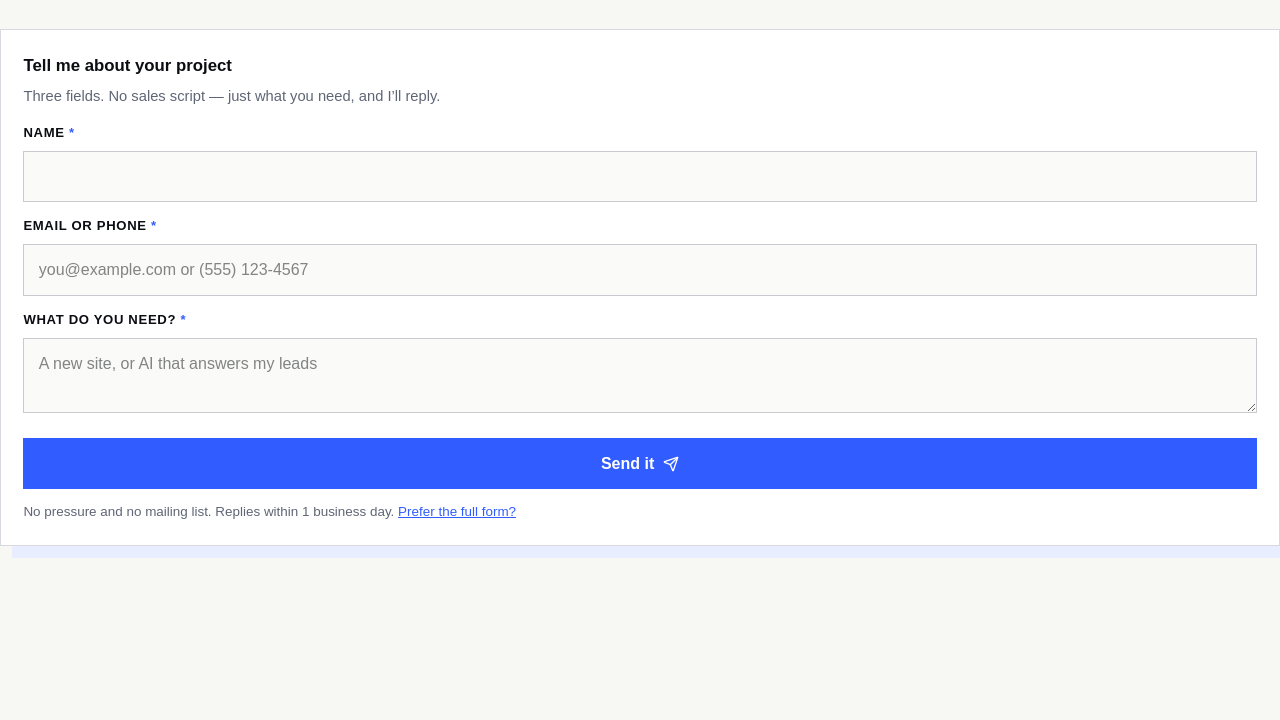
Test: homepage quick quote › shows a visible error when the endpoint fails
This screenshot has width=1280, height=720.
Type "Jamie Rivera" into the field labelled "Name *" at point(640, 176), box [23, 150, 1257, 202]
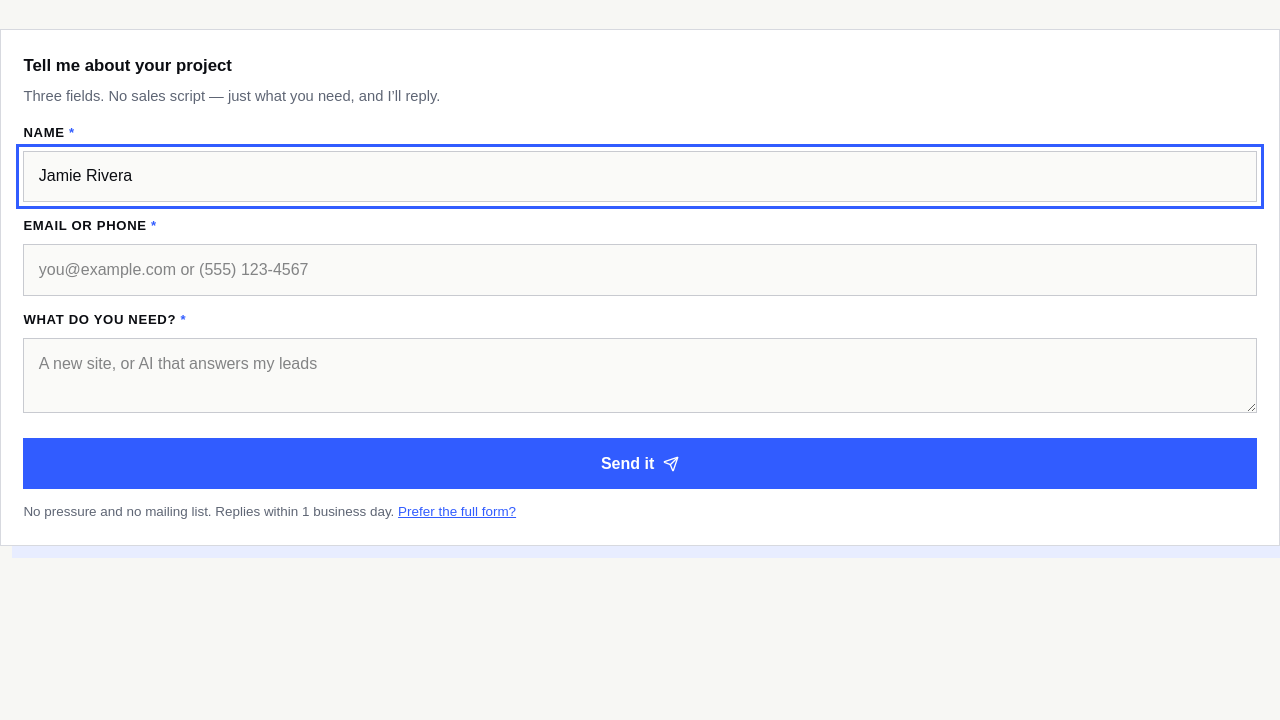
Type "jamie@example.com" into the field labelled "Email or phone *" at point(640, 270), box [23, 244, 1257, 296]
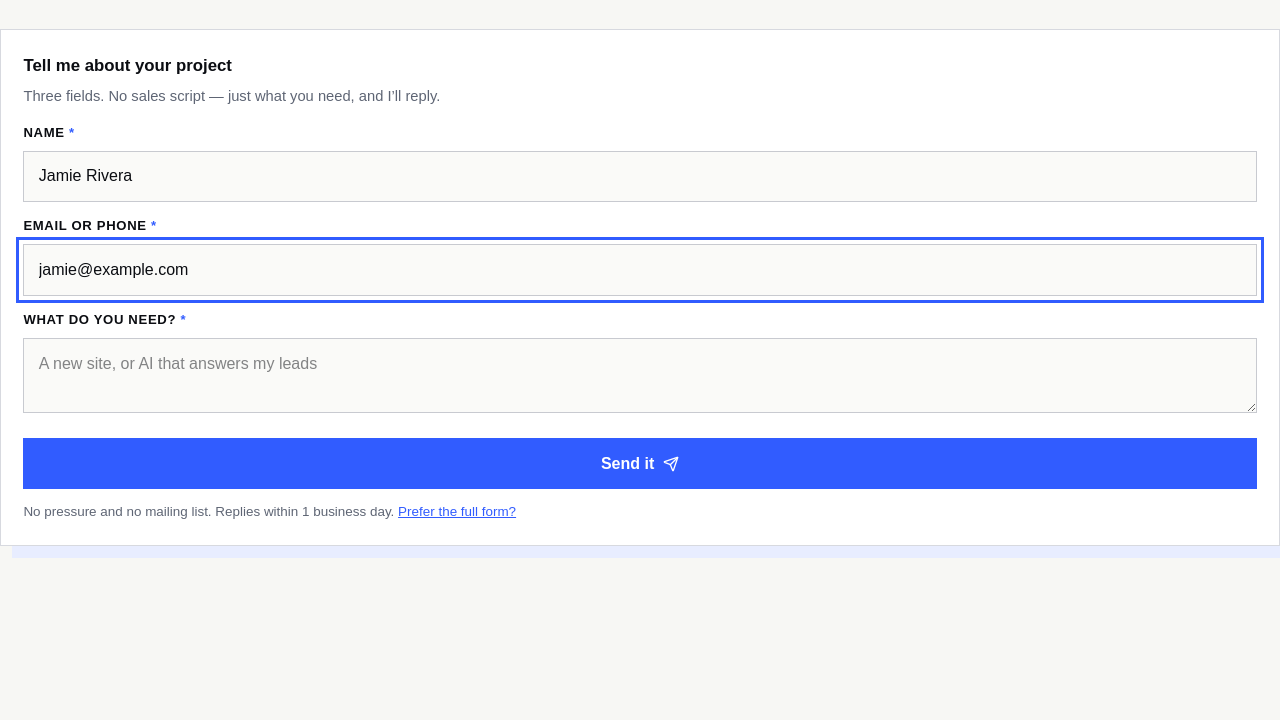
Type "New site for my plumbing company" into the text box labelled "What do you need? *" at point(640, 376), box [23, 338, 1257, 413]
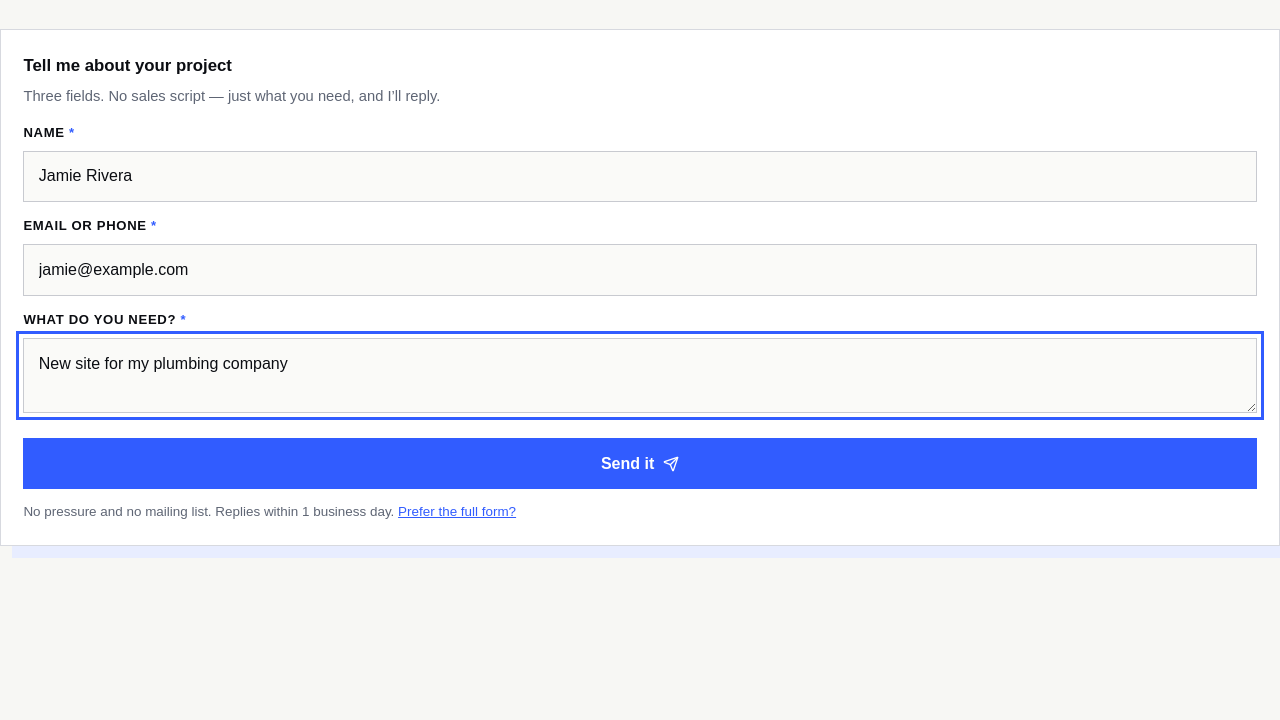
Click the button "Send it" at point(640, 464), box [23, 438, 1257, 489]
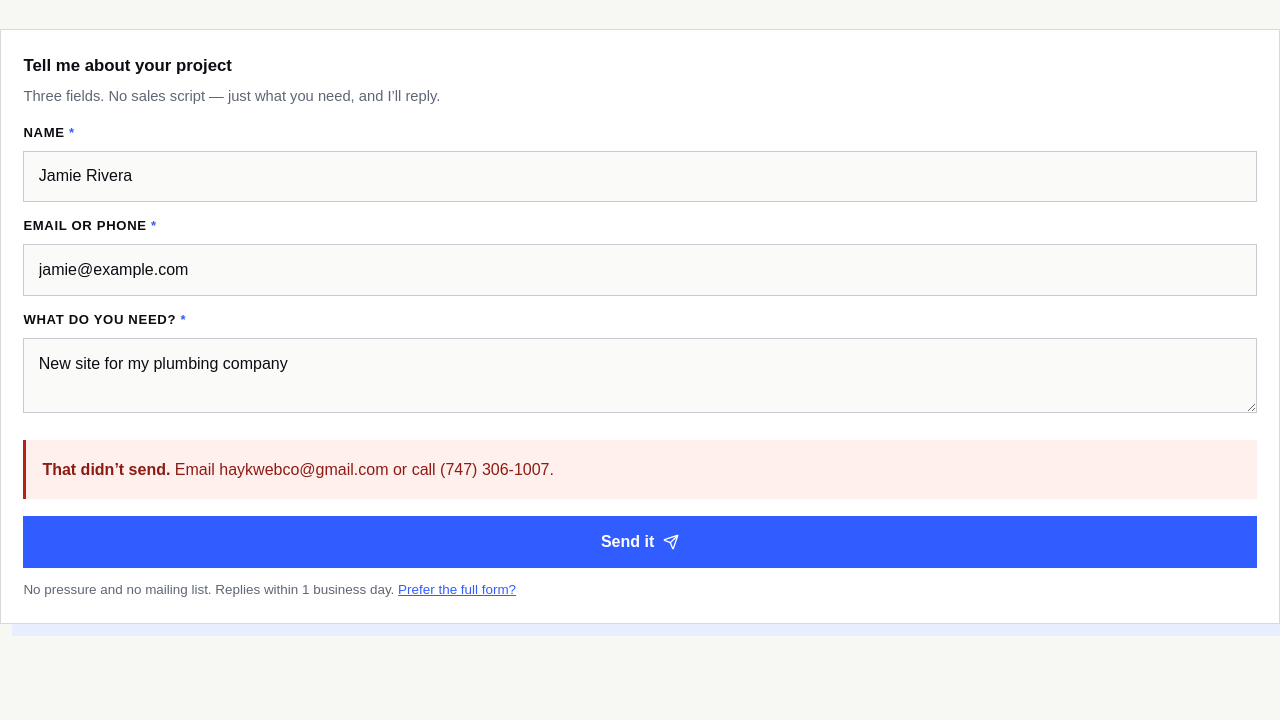
Expected: the button "Send it" is enabled, [23, 516, 1257, 568]
Expected: the message named "quick quote error" shows "didn’t send", [42, 461, 170, 478]
